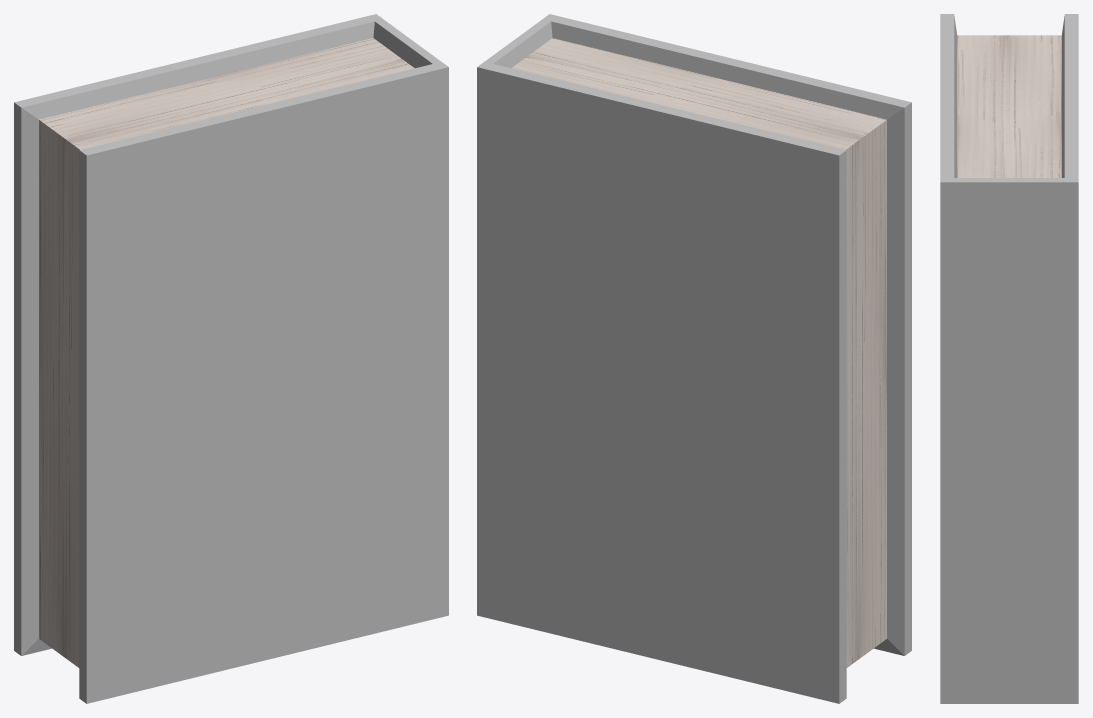
The model's file is book3.fbx.
3 renders of one model, left to right at view 1: azimuth 30°, elevation 25°; view 2: azimuth 150°, elevation 25°; view 3: azimuth 270°, elevation 25°, orthographic. The views are drawn at different scales.
Parts seen in each view (by area): view 1: Cube; view 2: Cube; view 3: Cube.
Part boxes in pixels (bbox=[...]): Cube: bbox=[14, 14, 448, 703]; Cube: bbox=[477, 14, 911, 703]; Cube: bbox=[940, 14, 1078, 703].
Size of the model in its own units: 138 by 200 by 48.
